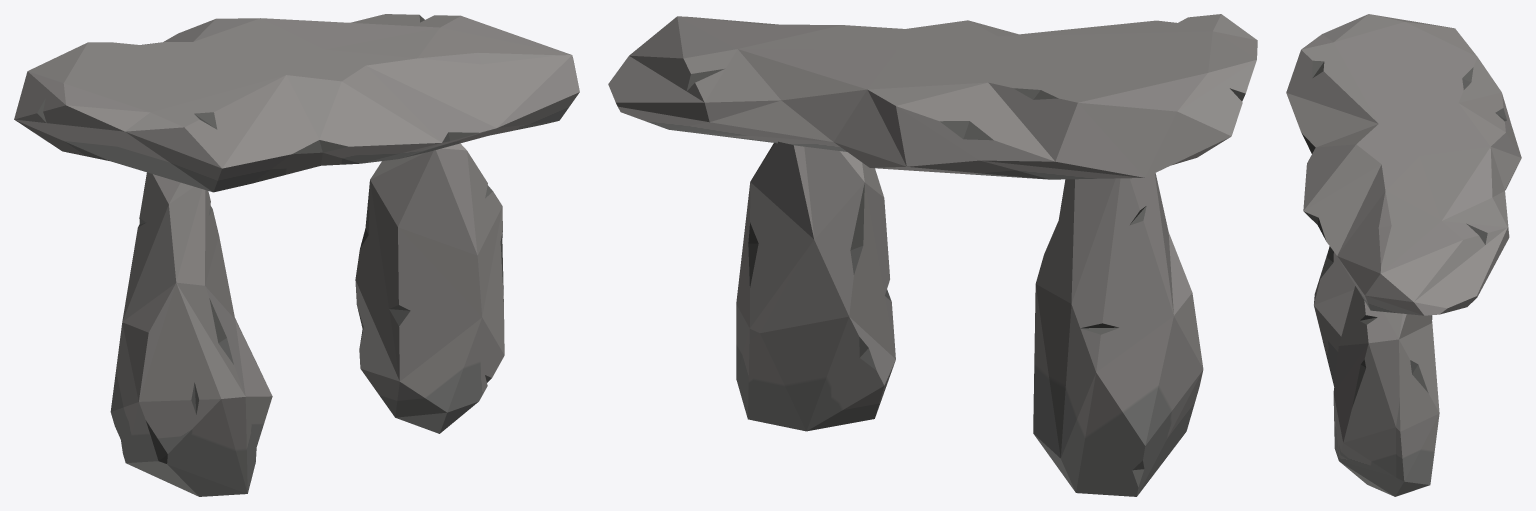
Rendered from SM_Prop_StoneArch_01.fbx.
3 renders of one model, left to right at view 1: azimuth 30°, elevation 25°; view 2: azimuth 150°, elevation 25°; view 3: azimuth 270°, elevation 25°, orthographic. The views are drawn at different scales.
Visible parts, largest first — view 1: SM_Prop_StoneArch_01; view 2: SM_Prop_StoneArch_01; view 3: SM_Prop_StoneArch_01.
Boxes of the visible parts, x1,y1,x2,y2 form: SM_Prop_StoneArch_01: (14, 14, 579, 496); SM_Prop_StoneArch_01: (608, 14, 1257, 496); SM_Prop_StoneArch_01: (1286, 14, 1521, 496).
Bounding box in the file's own units: 555 × 402 × 260.
1 material, 1 textured.
